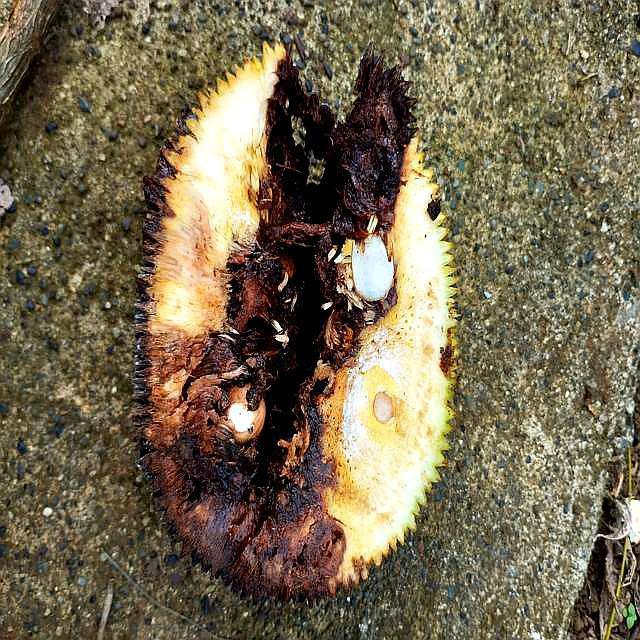Biodegradable: (149, 45, 449, 597)
